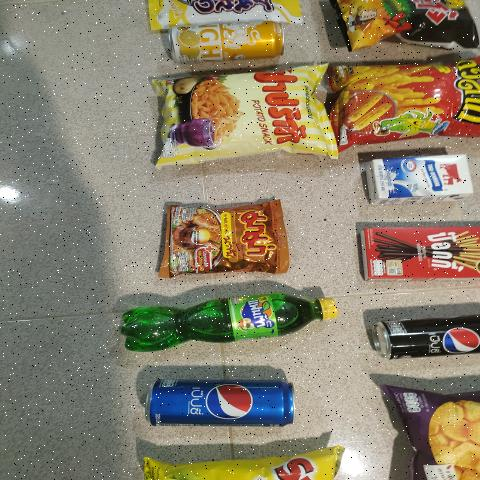fanta_green: (109, 280, 346, 352)
mama: (149, 205, 292, 270)
paprika: (150, 70, 326, 156)
pepsi_black: (371, 312, 480, 364)
pepsi_blue: (144, 372, 300, 430)
pokki: (358, 224, 480, 282)
thai_denmark: (354, 156, 480, 204)
twisco: (329, 63, 480, 134)
